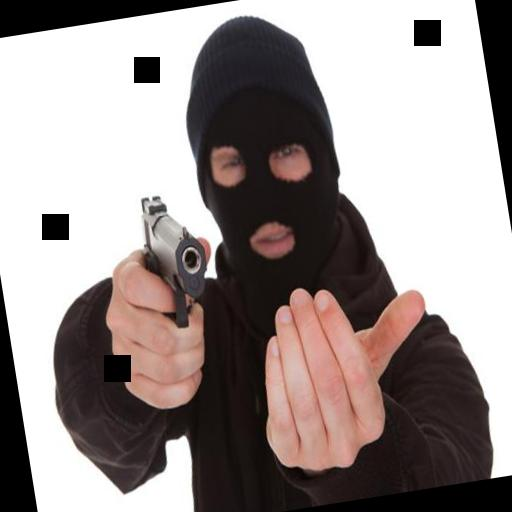Handgun: (130, 188, 214, 332)
